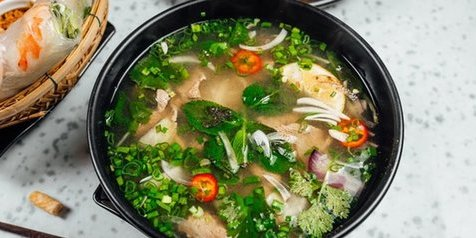Sayur Bayam: (132, 33, 374, 231)
